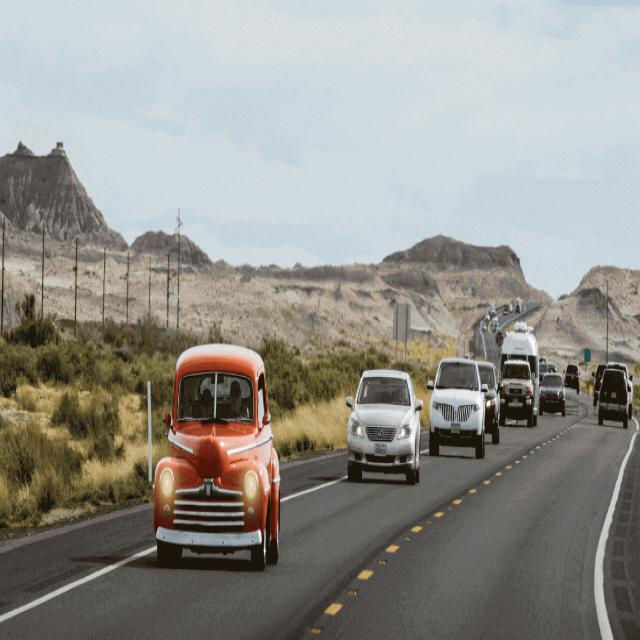car: (155, 345, 279, 565), (349, 367, 422, 479), (432, 352, 484, 457), (500, 359, 532, 428), (539, 372, 565, 416)
